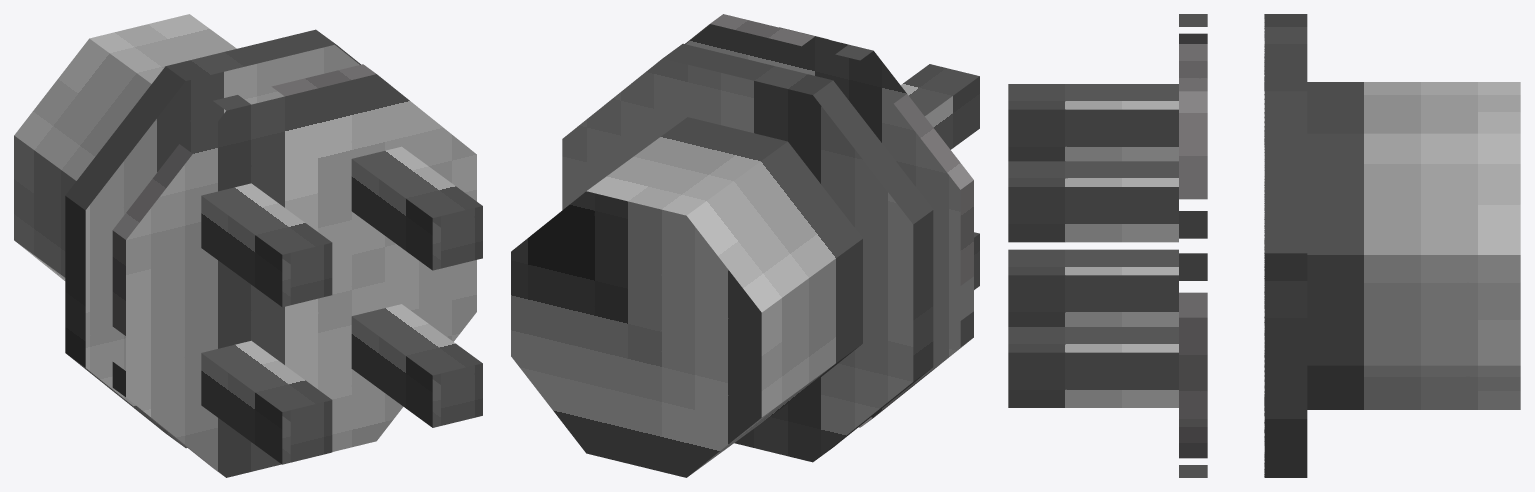
The model's file is emitter.obj.
3 views of the same model, side by side, from view 1: azimuth 30°, elevation 25°; view 2: azimuth 150°, elevation 25°; view 3: azimuth 270°, elevation 25° (orthographic). The views are drawn at different scales.
Parts seen in each view (by area): view 1: 立方体; view 2: 立方体; view 3: 立方体.
Part boxes in pixels (x1,y1,x2,y2): 立方体: (14,14,482,477); 立方体: (511,14,979,477); 立方体: (1008,14,1520,477).
Size of the model in its own units: 0.625 by 0.625 by 0.75.
